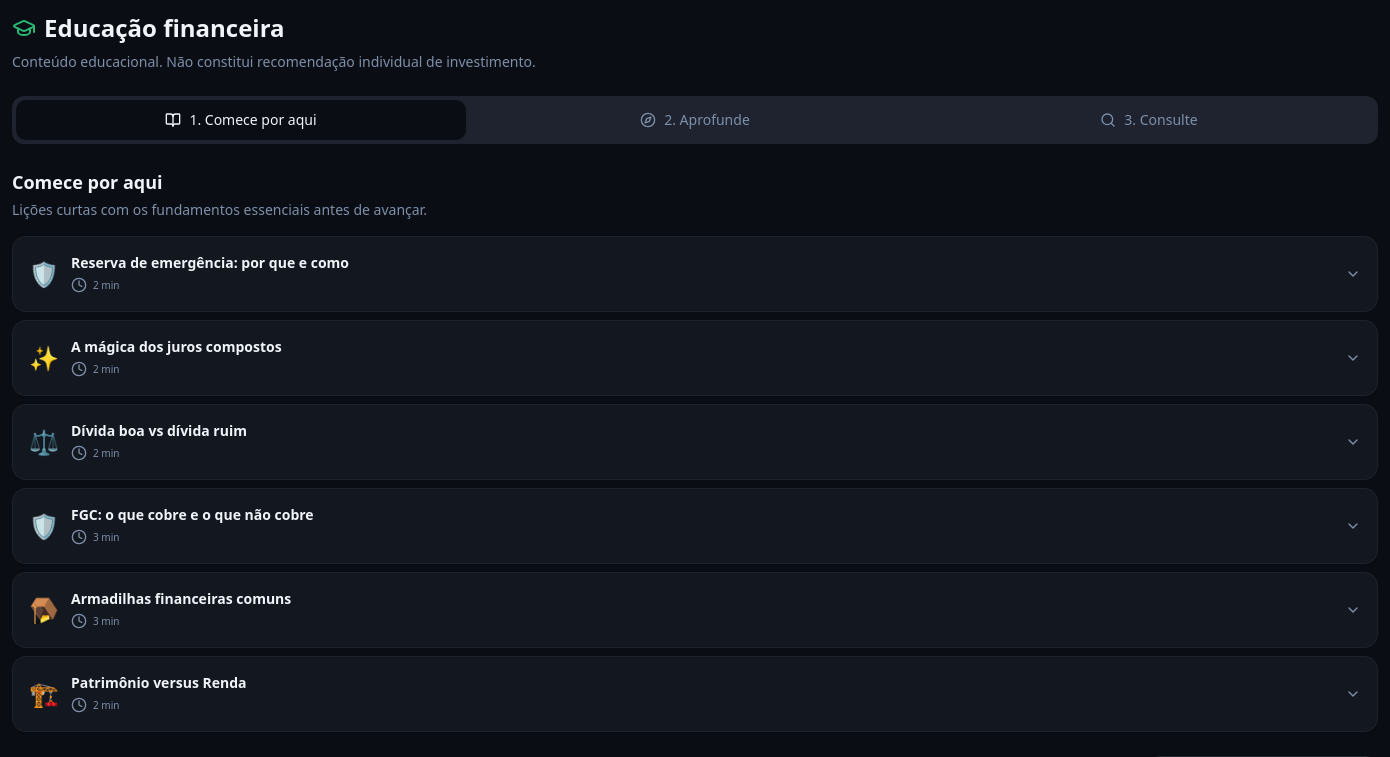
Test: LearningPath › não duplica tópicos introdutórios na Biblioteca de Aprofunde
This screenshot has width=1390, height=757.
Click the tab "2. Aprofunde" at x=695, y=120, box [470, 100, 920, 140]
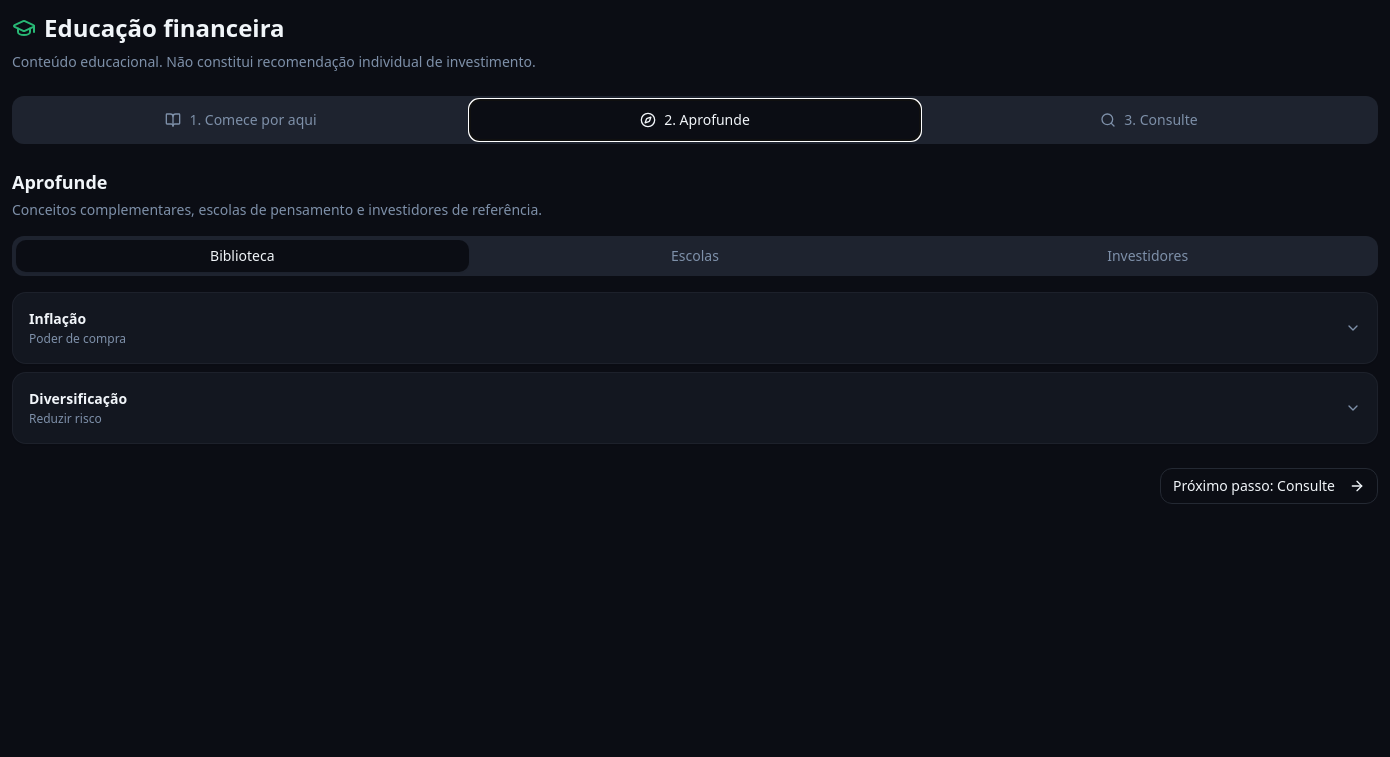
Expected: the text "Inflação" is shown, [29, 309, 86, 329]
Expected: the text "Diversificação" is shown, [29, 389, 127, 409]
Expected: the button "Reserva de emergência" is gone
